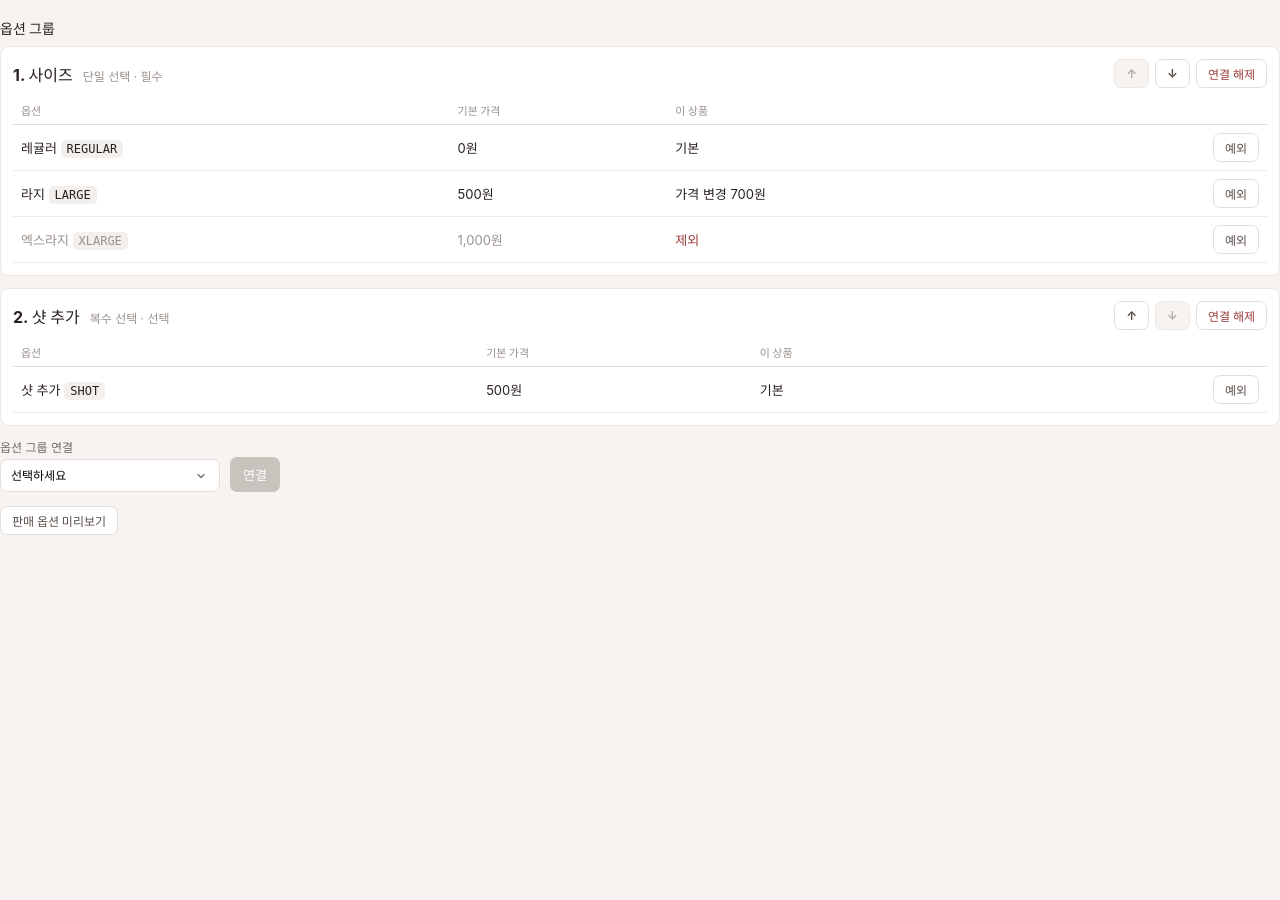
Scenario: 옵션 예외 › 저장에 성공하면 모달을 닫고 토스트로 알린다
Step 1. Click the button "예외" in the row of "레귤러" → (1236, 148), box x1=1213 y1=133 x2=1259 y2=162
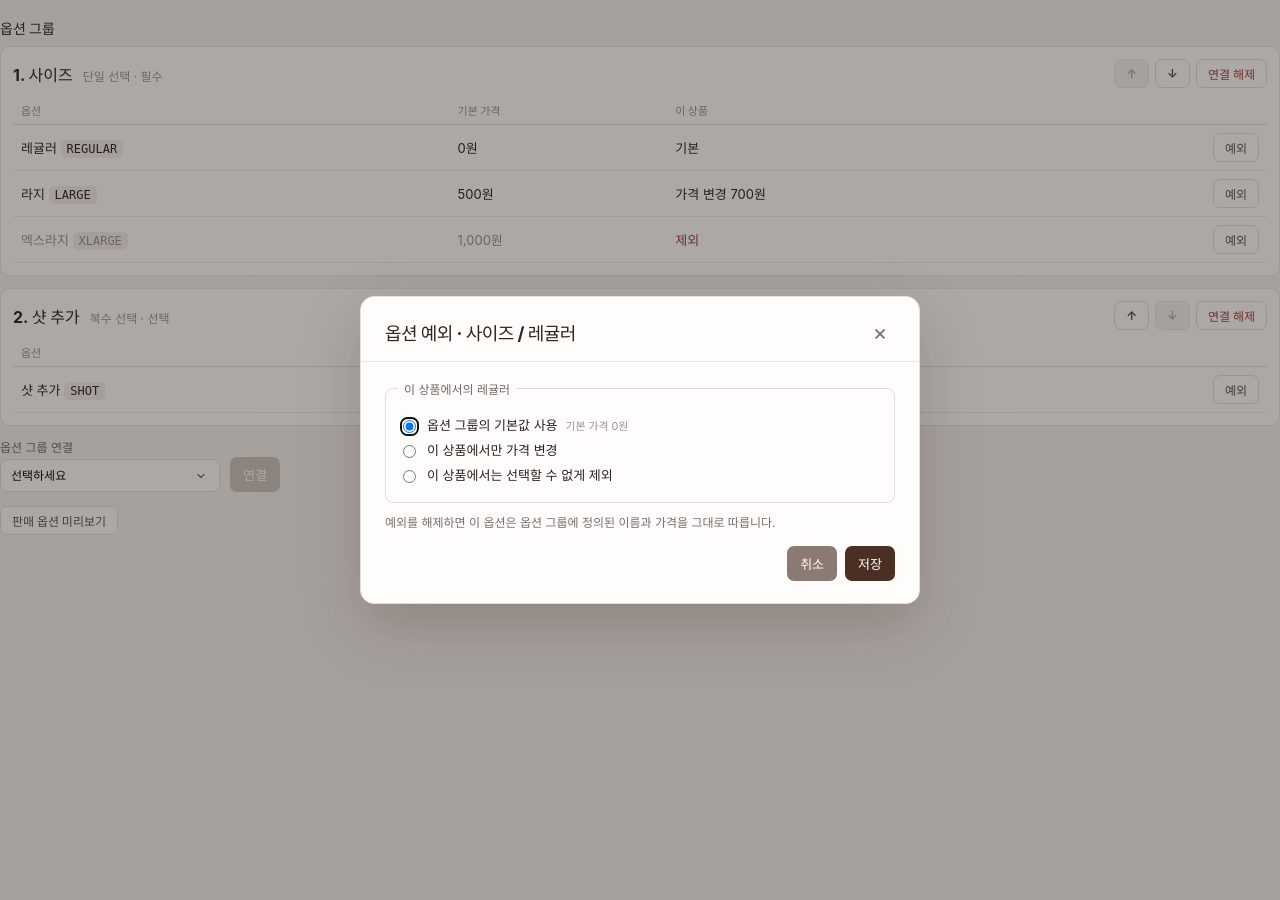
Step 2. Click the radio button labelled "이 상품에서는 선택할 수 없게 제외" → (410, 476), box x1=403 y1=470 x2=416 y2=482
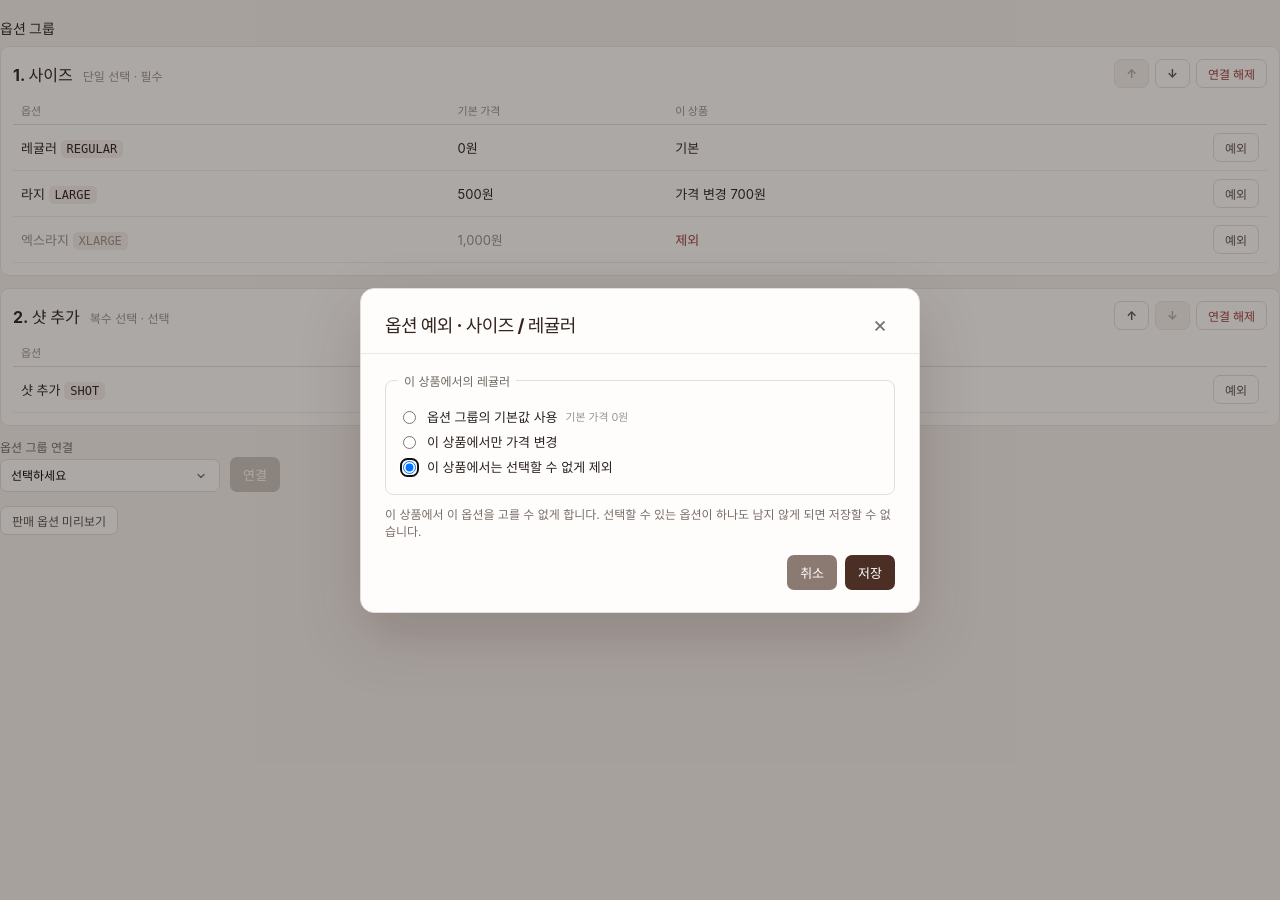
Step 3. Click the button "저장" → (870, 572), box x1=845 y1=554 x2=895 y2=590
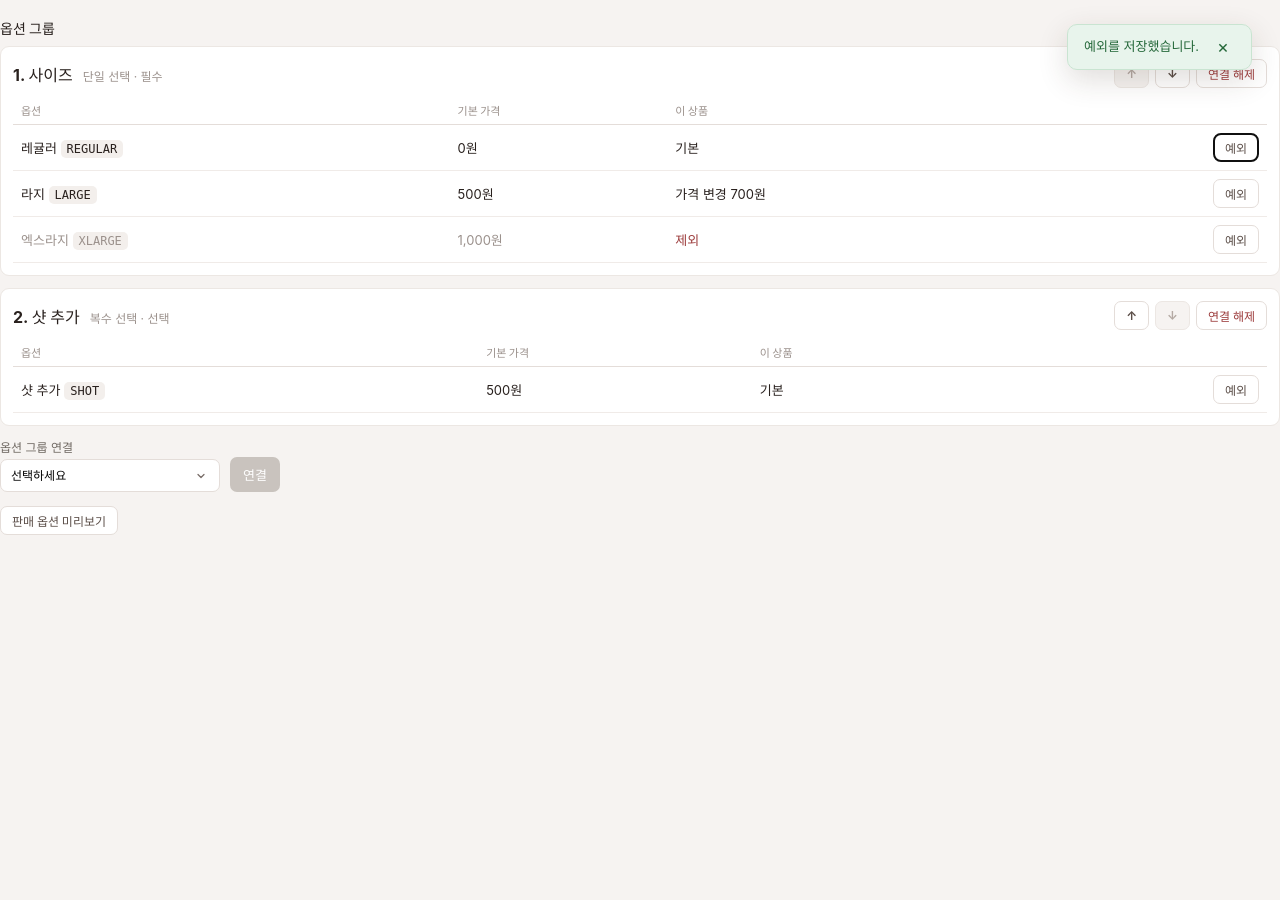
Expected: the text "예외를 저장했습니다." is shown, x1=1084 y1=38 x2=1199 y2=54
Expected: the heading "옵션 예외" is gone
